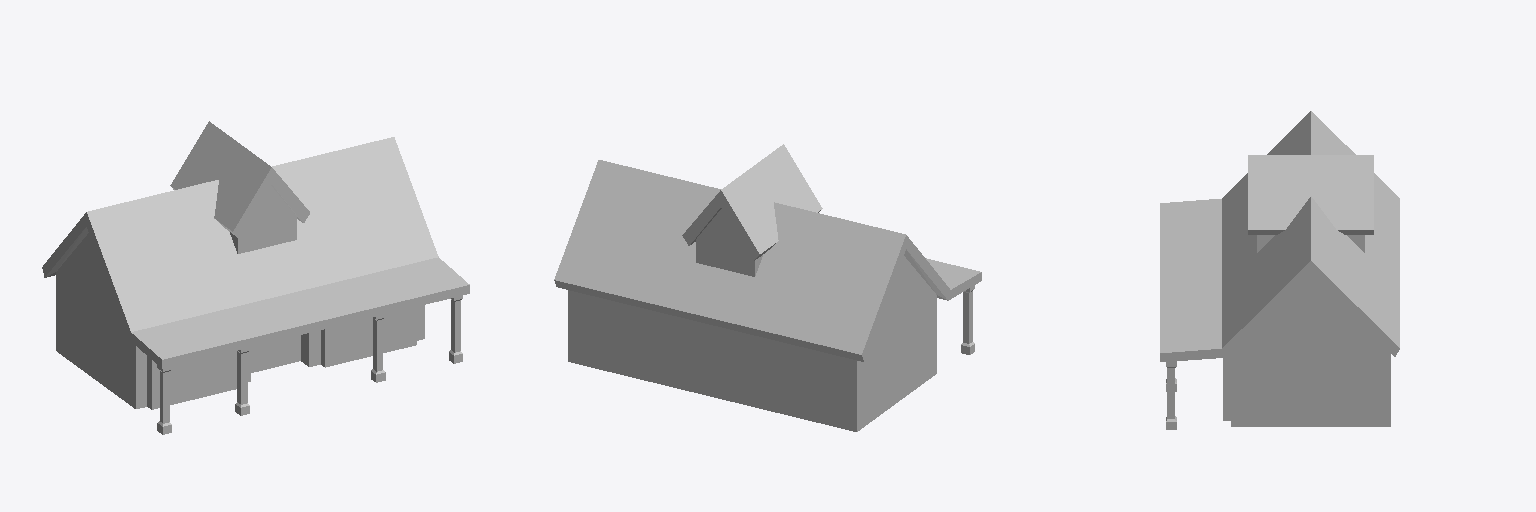
The model's file is SM_Bld_Station_01.obj.
3 views of the same model, side by side, from view 1: azimuth 30°, elevation 25°; view 2: azimuth 150°, elevation 25°; view 3: azimuth 270°, elevation 25° (orthographic).
Parts seen in each view (by area): view 1: SM_Bld_Station_01:Mesh; view 2: SM_Bld_Station_01:Mesh; view 3: SM_Bld_Station_01:Mesh.
Boxes of the visible parts, x1=… form: SM_Bld_Station_01:Mesh: x1=42, y1=121, x2=469, y2=434; SM_Bld_Station_01:Mesh: x1=554, y1=144, x2=981, y2=431; SM_Bld_Station_01:Mesh: x1=1160, y1=111, x2=1399, y2=429.
Bounding box in the file's own units: 18.31 × 11.44 × 12.38.